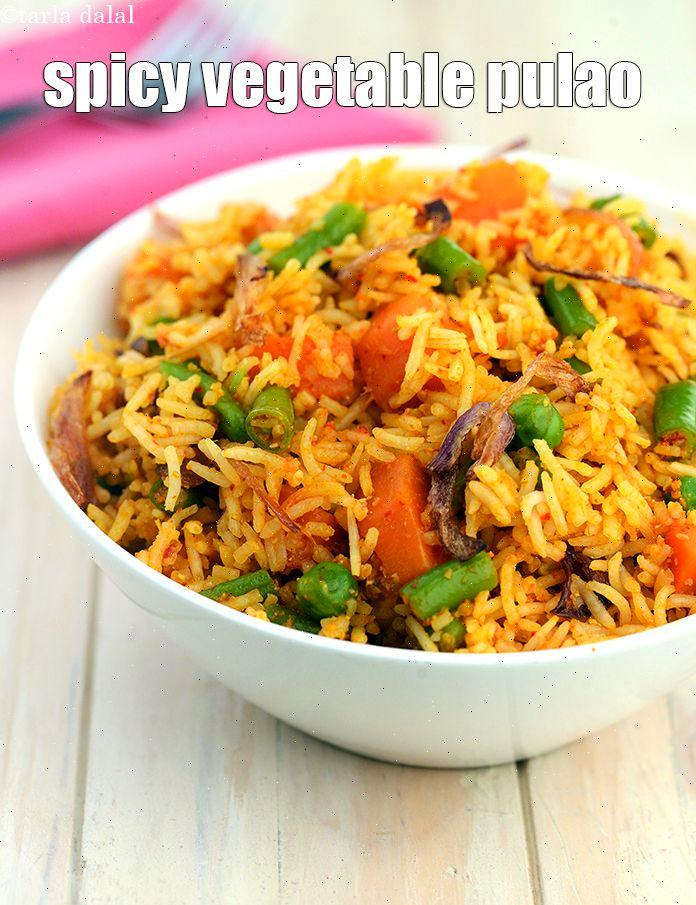veg-pulao: (50, 163, 696, 641)
